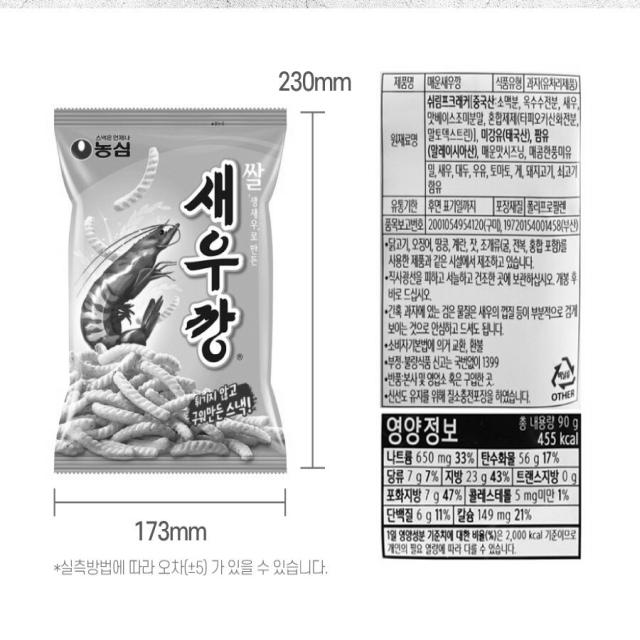Nutrition Label: (376, 408, 586, 567)
